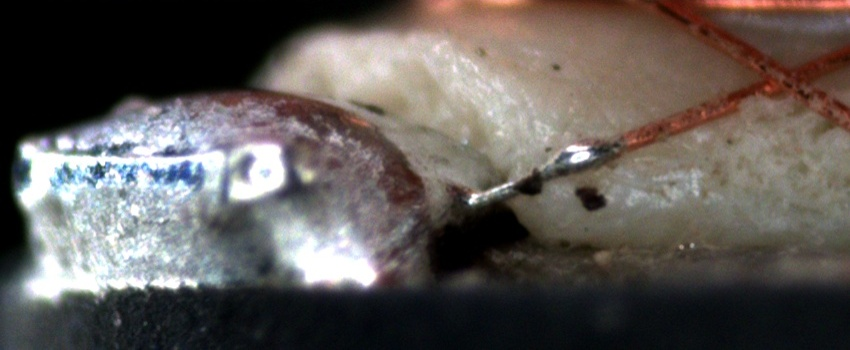CL: (747, 48, 834, 104)
TB: (541, 129, 632, 176)
TS: (470, 140, 619, 208)
TTCW: (458, 118, 663, 212)
